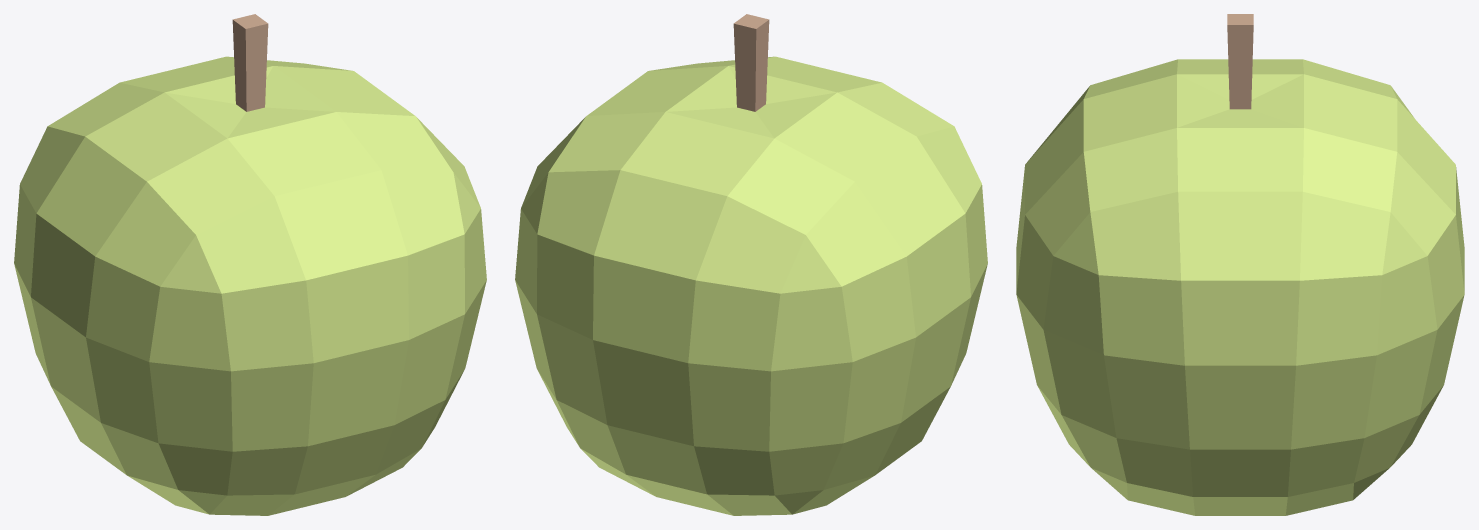
File: Green Apple.fbx
3 views of the same model, side by side, from view 1: azimuth 30°, elevation 25°; view 2: azimuth 150°, elevation 25°; view 3: azimuth 270°, elevation 25° (orthographic).
Parts seen in each view (by area): view 1: Green Apple; view 2: Green Apple; view 3: Green Apple.
Boxes of the visible parts, x1=… form: Green Apple: x1=14, y1=14, x2=486, y2=515; Green Apple: x1=515, y1=14, x2=987, y2=515; Green Apple: x1=1016, y1=14, x2=1464, y2=515.
Bounding box in the file's own units: 0.0864 × 0.0986 × 0.0864.
